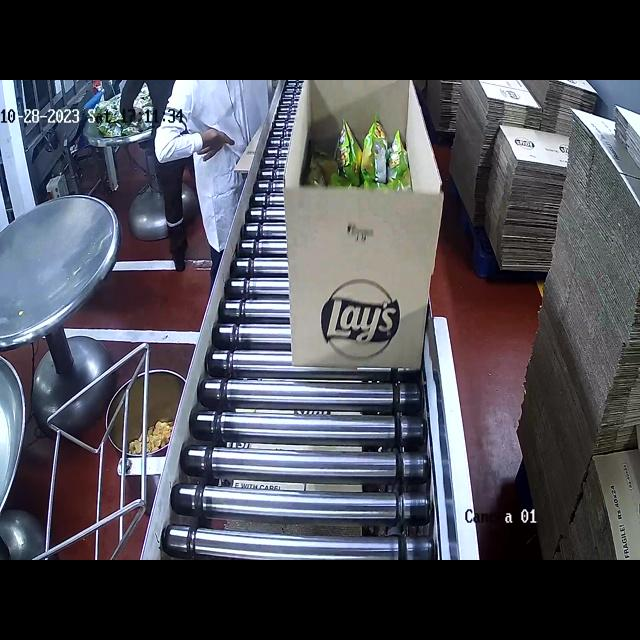yogurt: (313, 121, 410, 183)
